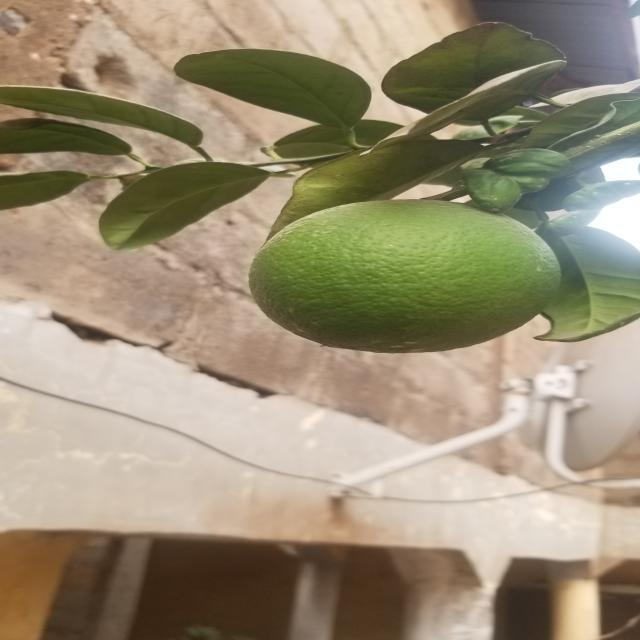Unripe: (235, 190, 562, 372)
